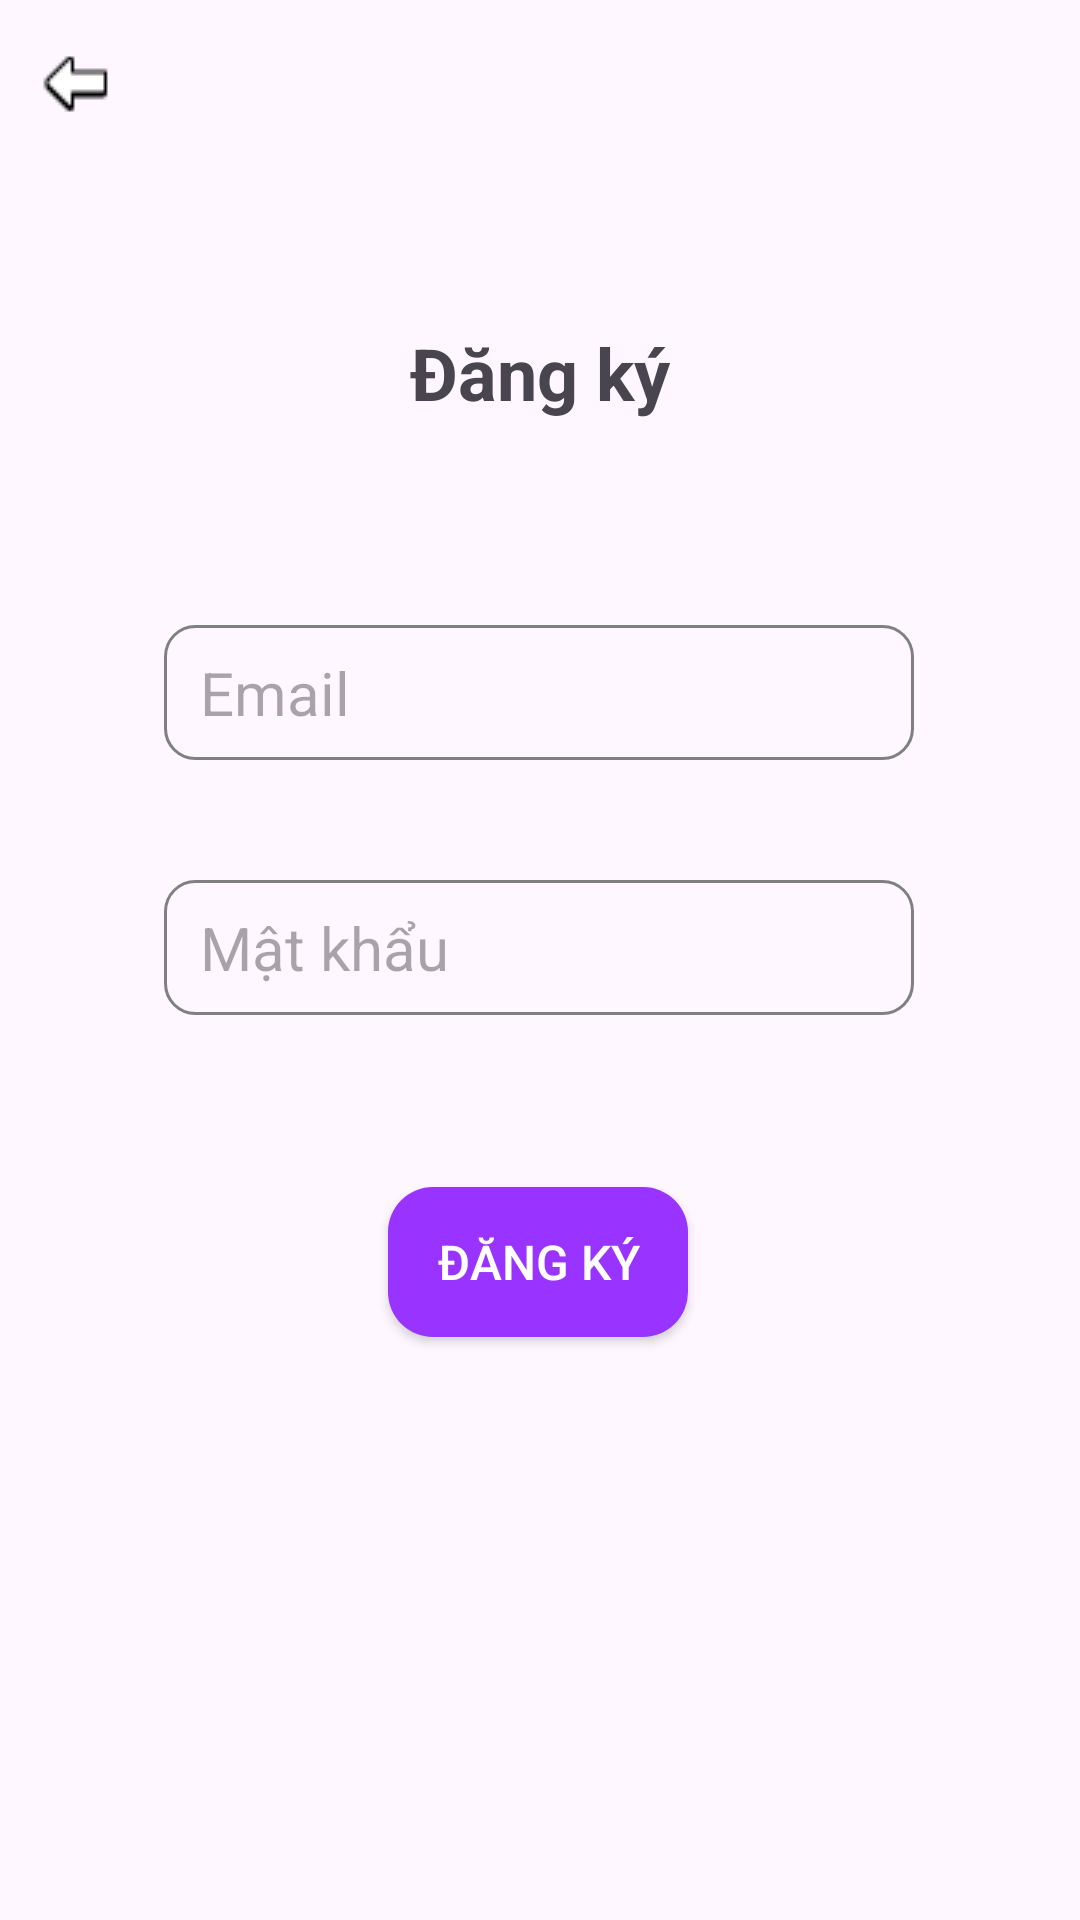

Screen size 1080 x 1920. Icon name, then its center in pixels as point (x, y):
back: point (75, 84)
